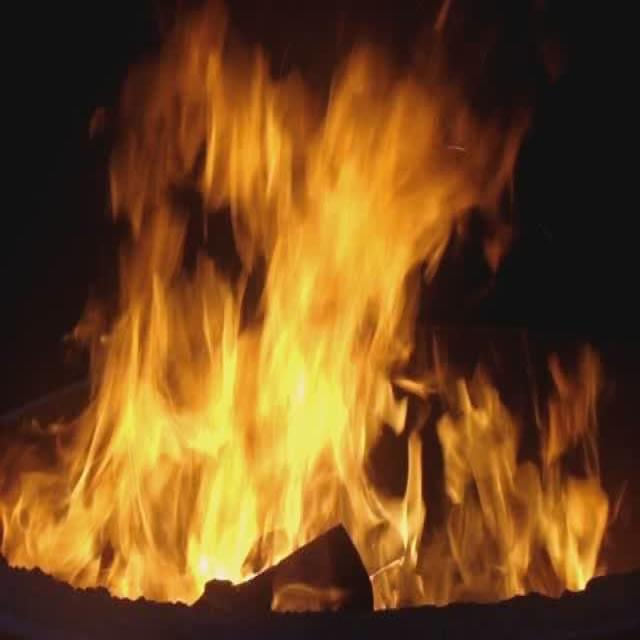Fire: (0, 0, 609, 609)
